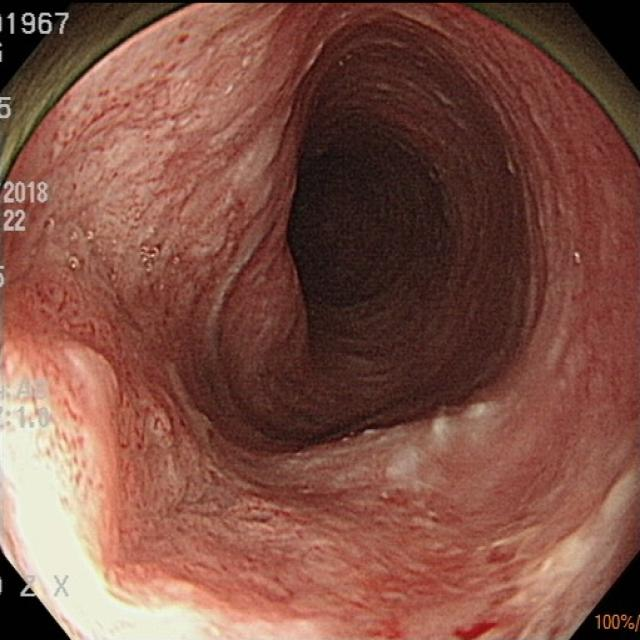A: (24, 57, 240, 309), (274, 396, 505, 502), (229, 505, 461, 599), (2, 348, 99, 502)
B: (131, 383, 219, 501)
C: (450, 618, 499, 640)
E: (293, 93, 441, 335)
S: (3, 375, 53, 430), (2, 12, 71, 38), (2, 181, 51, 205), (594, 612, 640, 632), (2, 209, 29, 233), (53, 574, 73, 600), (21, 574, 37, 602), (2, 97, 14, 122)
